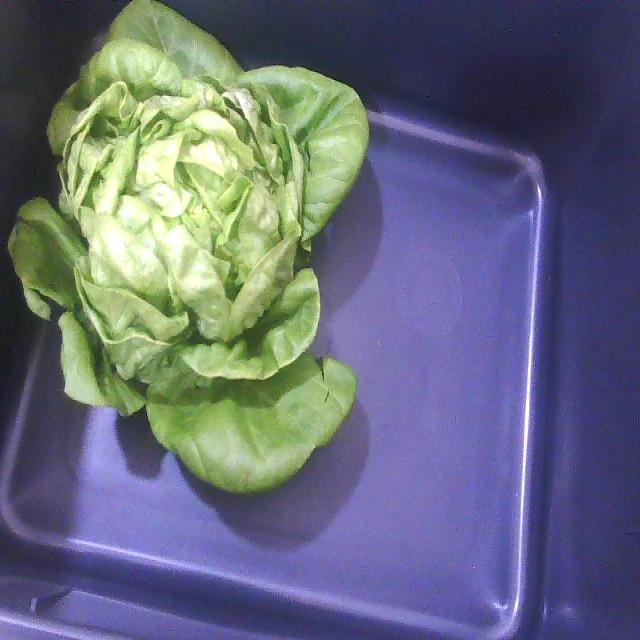Lettuce-plant: (10, 0, 368, 492)
